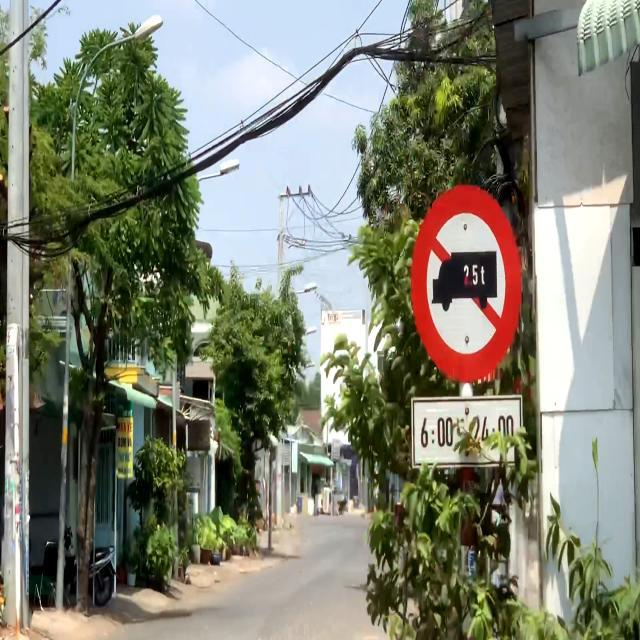Cam xe tai tren 2_5: (409, 184, 524, 386)
